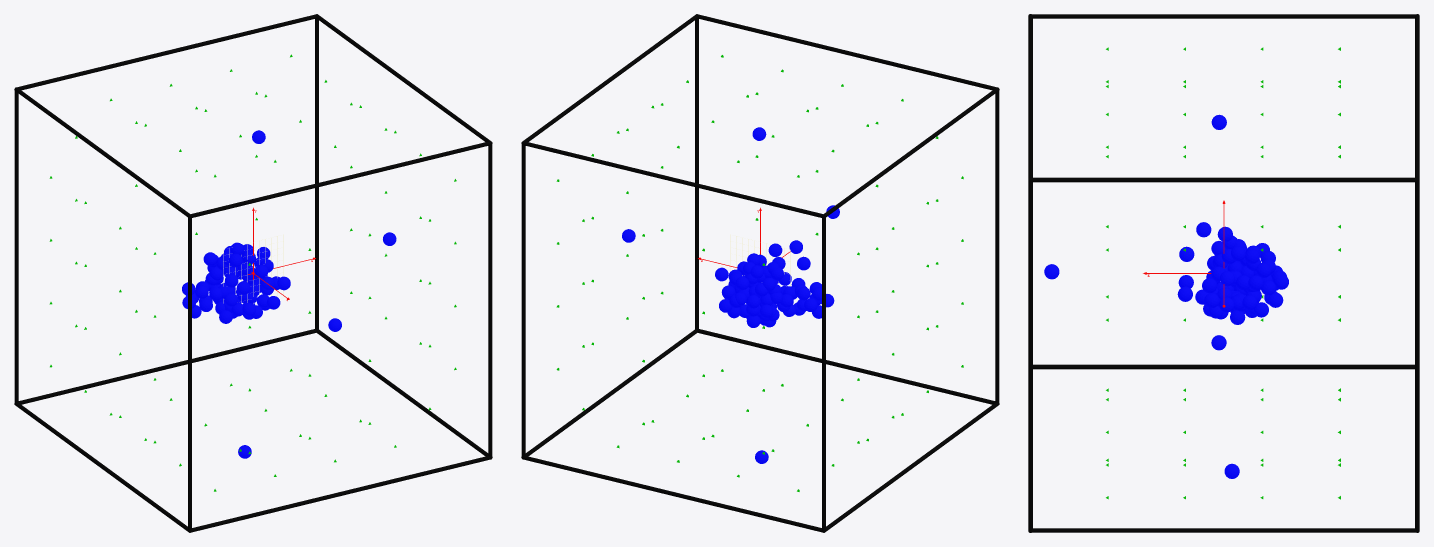
Rendered from TryLiquid3.glb.
3 views of the same model, side by side, from view 1: azimuth 30°, elevation 25°; view 2: azimuth 150°, elevation 25°; view 3: azimuth 270°, elevation 25° (orthographic). The views are drawn at different scales.
Bounding box in the file's own units: 5.06 × 5.49 × 5.06.
